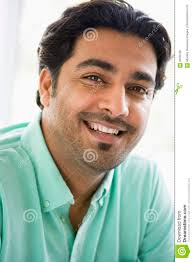middle_eastern_male: (48, 18, 165, 175)
